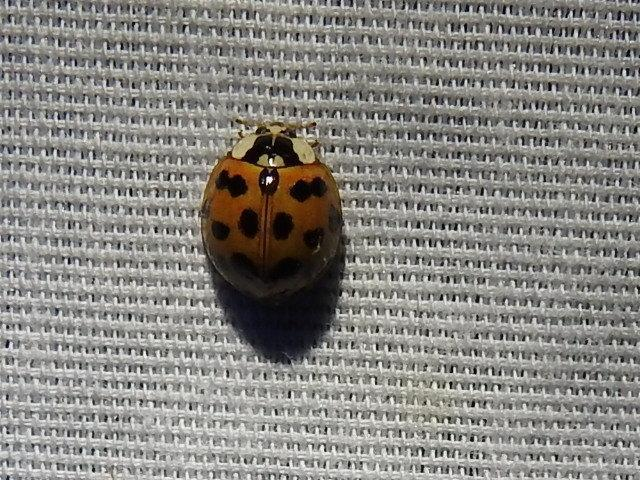ladybug: (201, 116, 347, 310)
